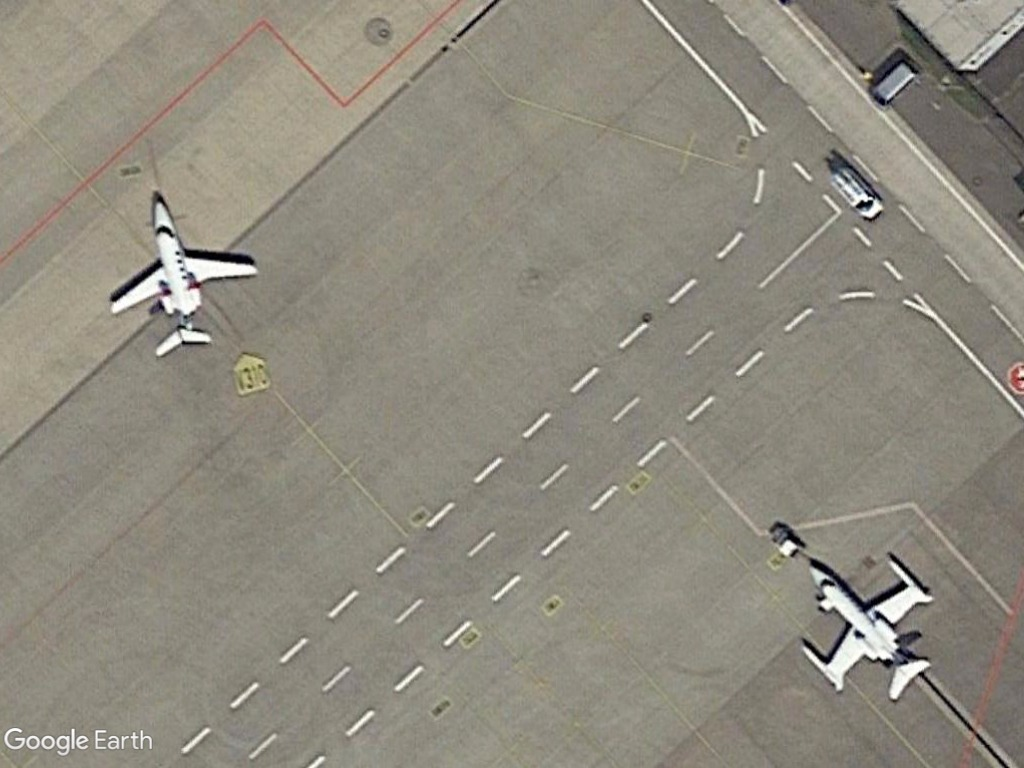chartered: (100, 181, 264, 370), (783, 539, 948, 714)
